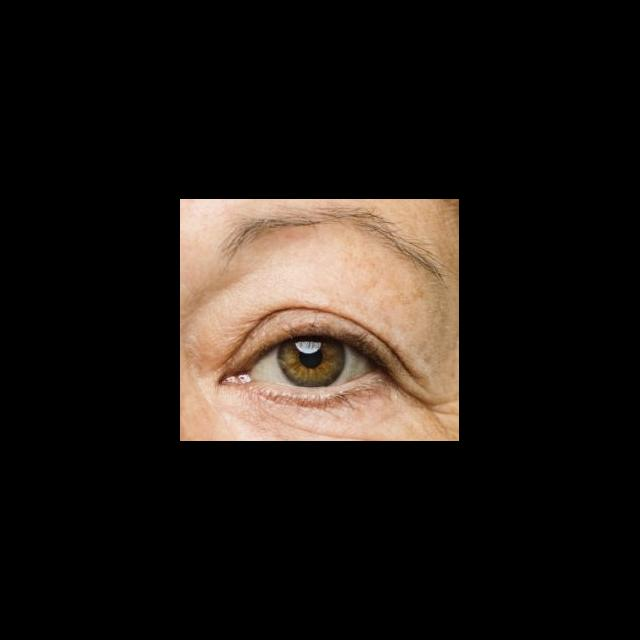eye: (247, 336, 380, 388)
iris: (278, 337, 345, 387)
